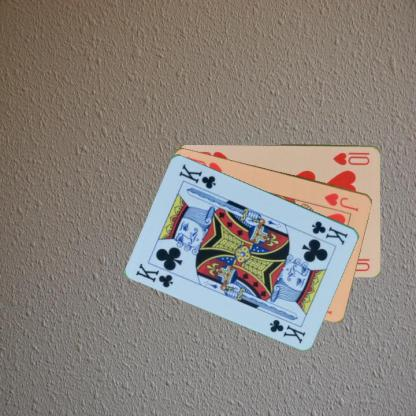10h: (330, 150, 371, 166)
Jh: (322, 190, 360, 212)
Kc: (309, 218, 350, 247), (134, 260, 174, 289)
